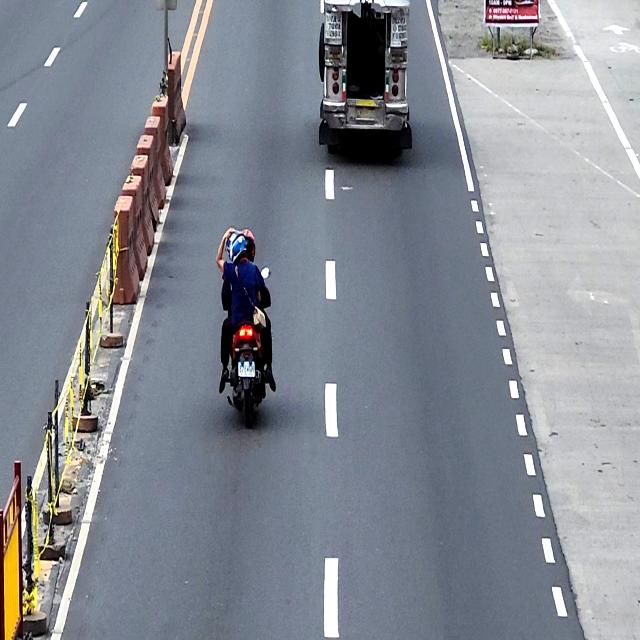Jeep: (318, 0, 412, 154)
License-Plate: (237, 360, 255, 378)
Motorcycle: (218, 265, 274, 429)
